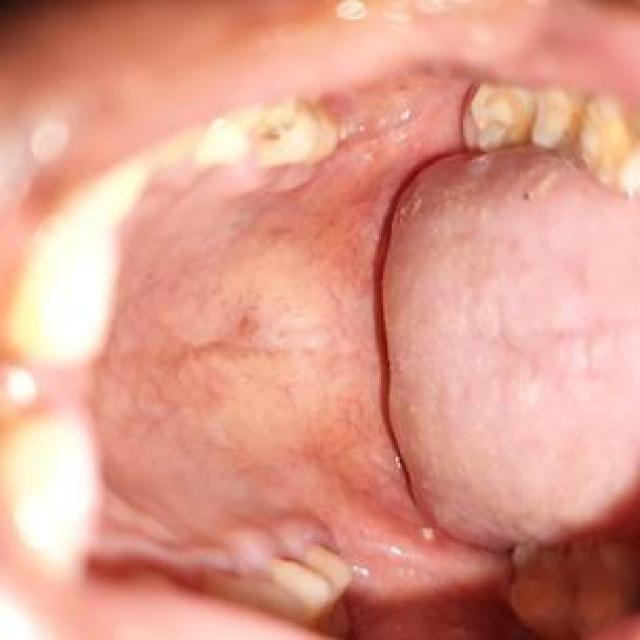processing_area: (95, 64, 638, 602)
